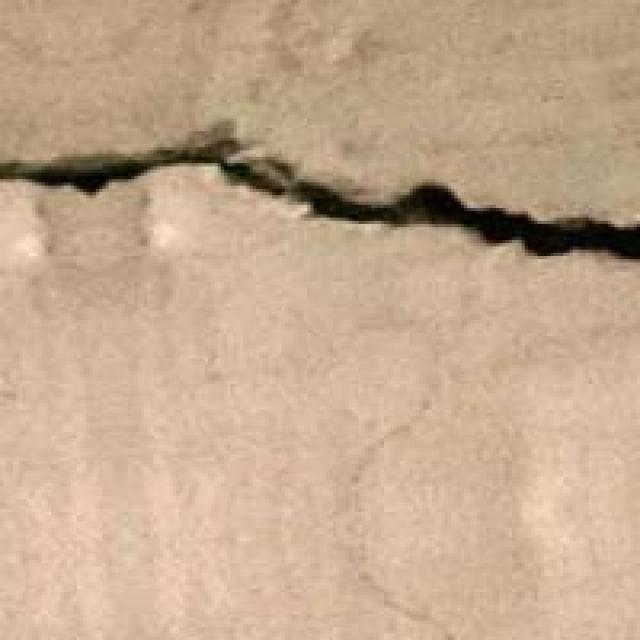crack: (0, 74, 637, 342)
